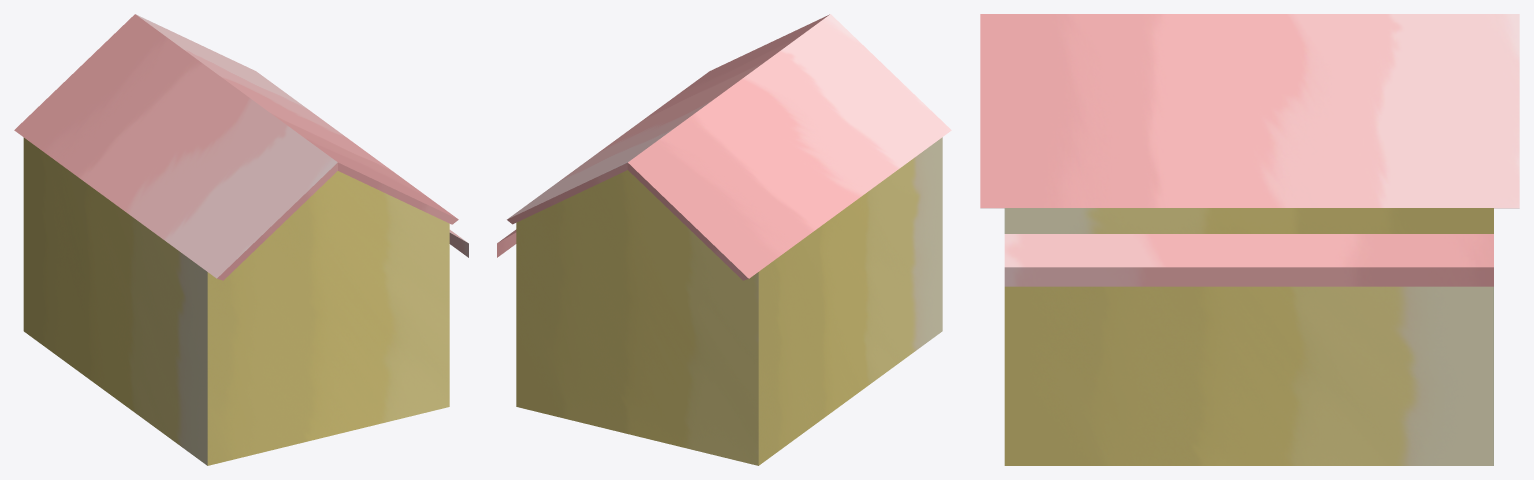
Rendered from coiffeur.fbx.
3 views of the same model, side by side, from view 1: azimuth 30°, elevation 25°; view 2: azimuth 150°, elevation 25°; view 3: azimuth 270°, elevation 25° (orthographic). The views are drawn at different scales.
Parts seen in each view (by area): view 1: coiffeur; view 2: coiffeur; view 3: coiffeur.
Boxes of the visible parts, <box> form: coiffeur: <box>14,14,468,465</box>; coiffeur: <box>497,14,951,465</box>; coiffeur: <box>980,14,1519,465</box>.
Bounding box in the file's own units: 268 × 275 × 360.
